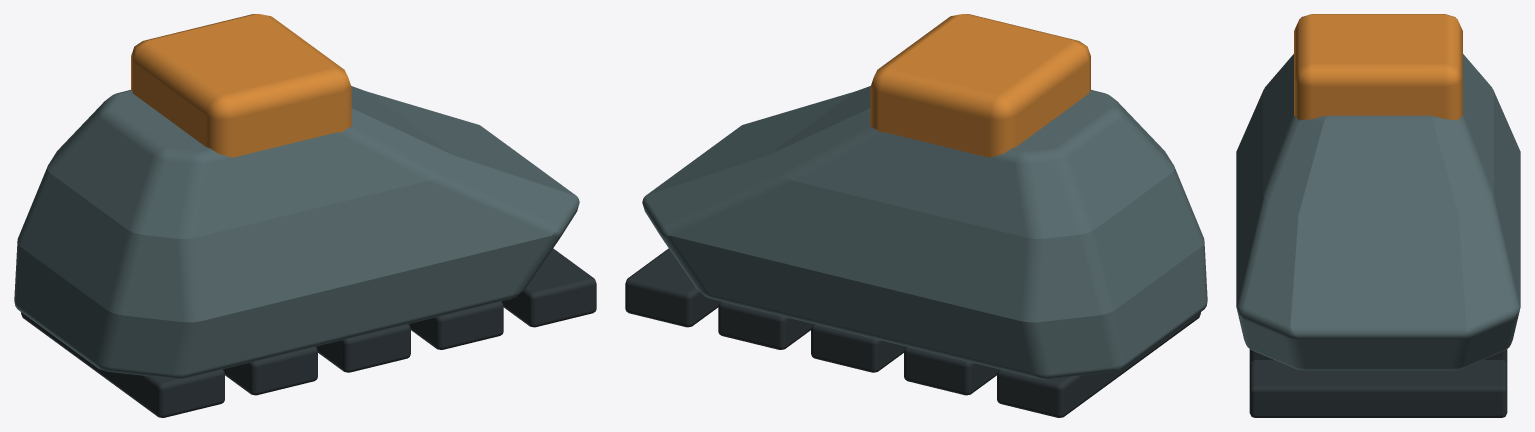
File: SM_LoaderFoot.fbx
The picture shows the model from 3 angles, left to right: view 1: azimuth 30°, elevation 25°; view 2: azimuth 150°, elevation 25°; view 3: azimuth 270°, elevation 25°; orthographic projection. The views are drawn at different scales.
Visible parts, largest first — view 1: SM_LoaderFoot; view 2: SM_LoaderFoot; view 3: SM_LoaderFoot.
Part boxes in pixels (x1,y1,x2,y2): SM_LoaderFoot: [14, 14, 596, 417]; SM_LoaderFoot: [625, 14, 1207, 417]; SM_LoaderFoot: [1236, 14, 1520, 417].
Bounding box in the file's own units: 56.4 × 32 × 31.5.
